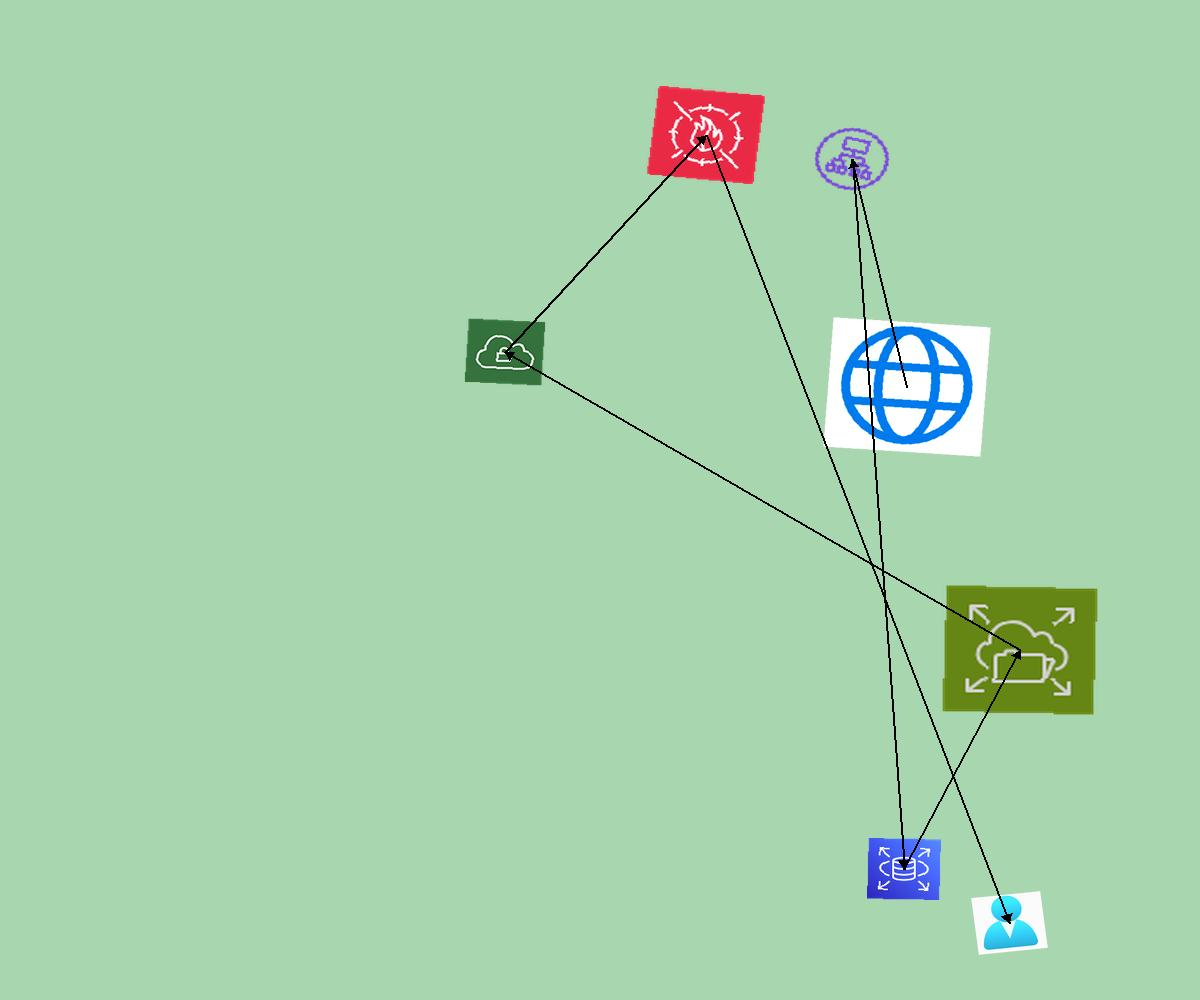AWS-EFS: (941, 584, 1099, 716)
AWS-Private_vpc: (464, 318, 546, 386)
AWS-RDS: (867, 838, 941, 900)
AWS-Res_Elastic-Load-Balancing_Application-Load-Balancer: (802, 117, 902, 201)
AWS-WAF: (646, 85, 766, 185)
Azure_http: (823, 317, 991, 457)
Azure_users: (971, 891, 1048, 955)
